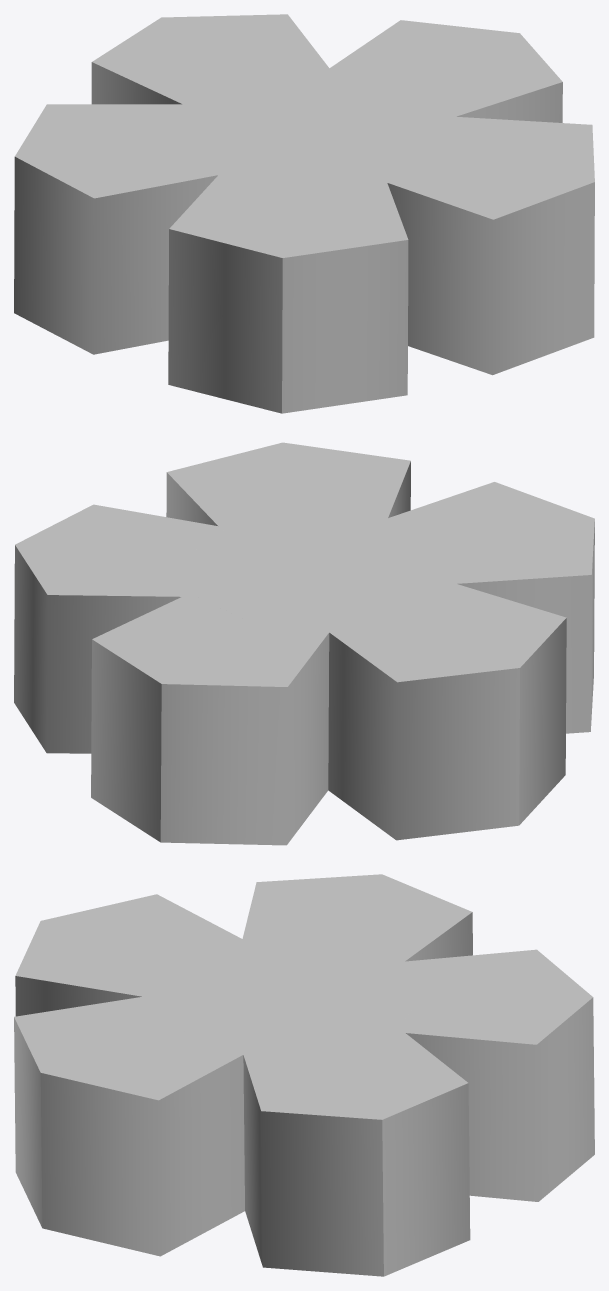
The model's file is greyButton.glb.
3 renders of one model, top to bottom at view 1: azimuth 30°, elevation 25°; view 2: azimuth 150°, elevation 25°; view 3: azimuth 270°, elevation 25°, orthographic.
Visible parts, largest first — view 1: pasted__pCylinder8; view 2: pasted__pCylinder8; view 3: pasted__pCylinder8.
Boxes of the visible parts, x1,y1,x2,y2 form: pasted__pCylinder8: [14, 14, 594, 413]; pasted__pCylinder8: [14, 442, 594, 845]; pasted__pCylinder8: [14, 874, 594, 1276].
Bounding box in the file's own units: 0.8592 × 0.2575 × 0.8588.
Materials: 1 (1 with a texture image).
